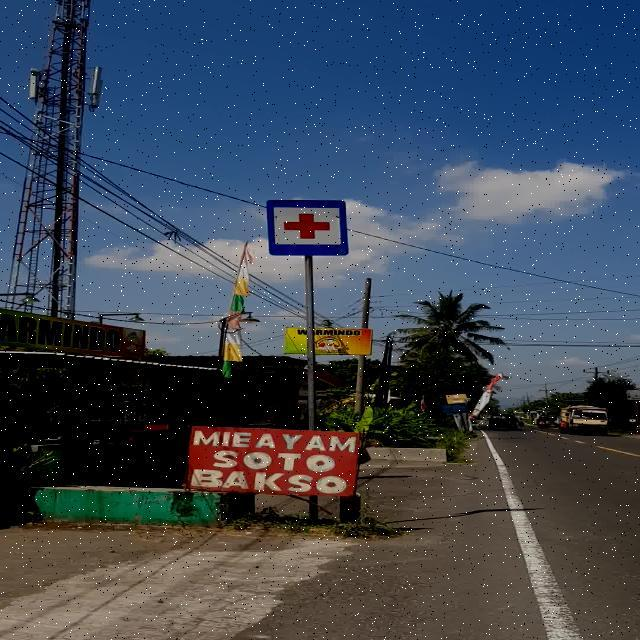Balai Pertolongan Pertama: (267, 200, 348, 256)
